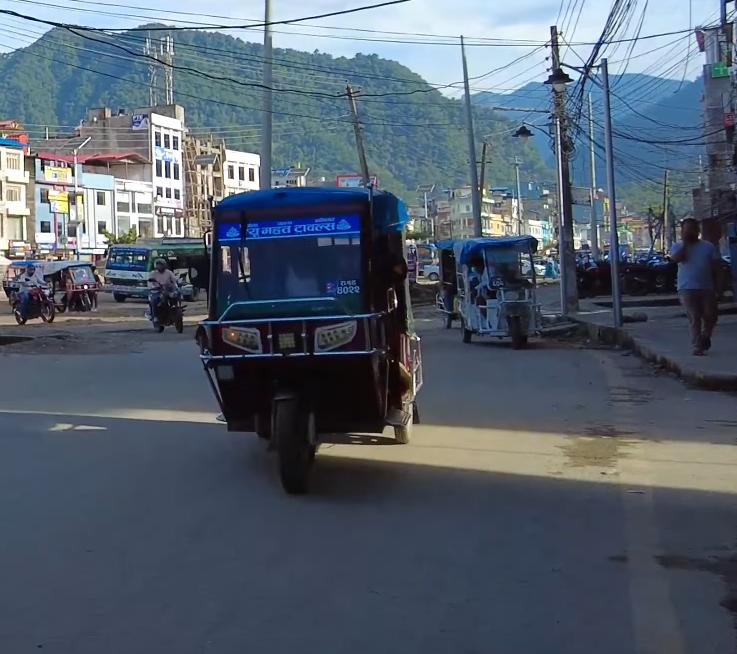bike: (145, 280, 187, 335), (10, 283, 58, 325)
bus: (98, 234, 205, 302)
e-rickshaw: (193, 182, 429, 496), (444, 233, 552, 358), (45, 257, 103, 315)
